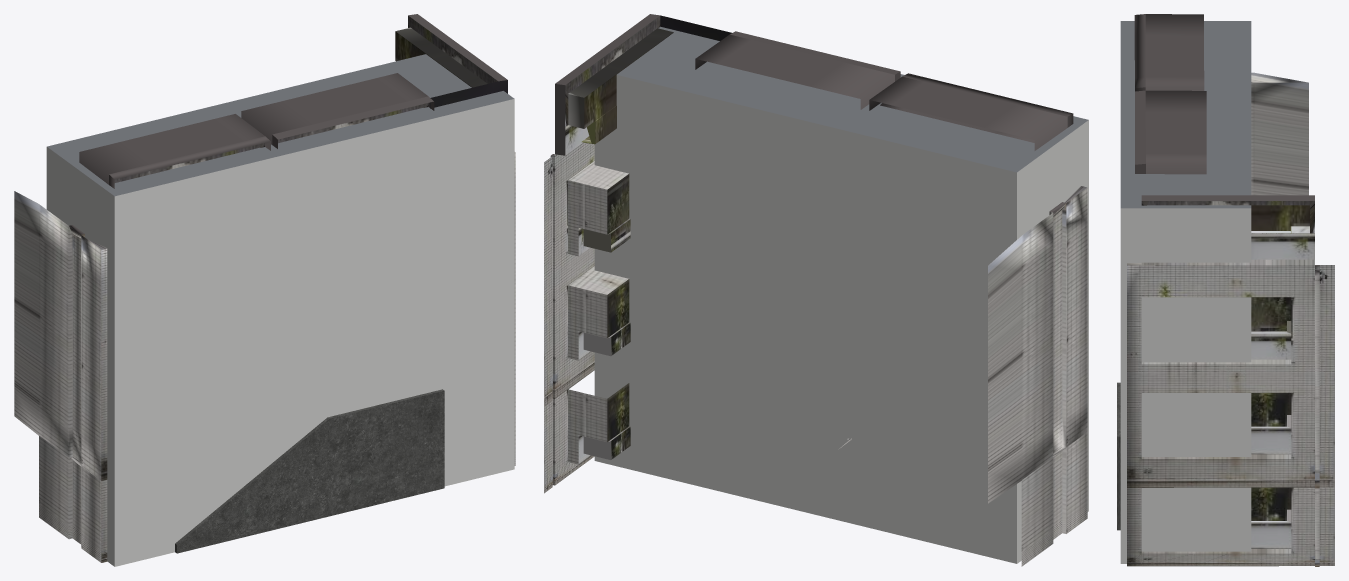
Rendered from bldg_10_urban_arcade.glb.
The picture shows the model from 3 angles, left to right: view 1: azimuth 30°, elevation 25°; view 2: azimuth 150°, elevation 25°; view 3: azimuth 270°, elevation 25°; orthographic projection. The views are drawn at different scales.
Parts seen in each view (by area): view 1: UrbanArcade; view 2: UrbanArcade; view 3: UrbanArcade.
Part boxes in pixels (left/top/right/bottom): UrbanArcade: left=14, top=14, right=515, bottom=566; UrbanArcade: left=544, top=14, right=1088, bottom=566; UrbanArcade: left=1117, top=14, right=1334, bottom=566.
Bounding box in the file's own units: 10.1 × 8.93 × 4.82.
4 materials, 2 textured.
